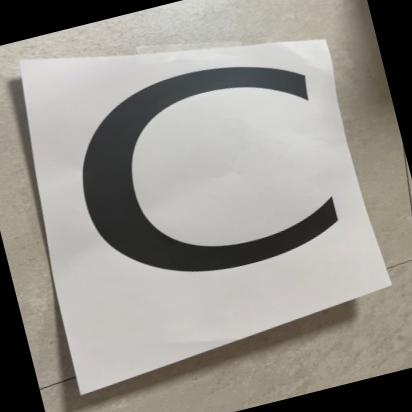seat: (29, 19, 383, 352)
